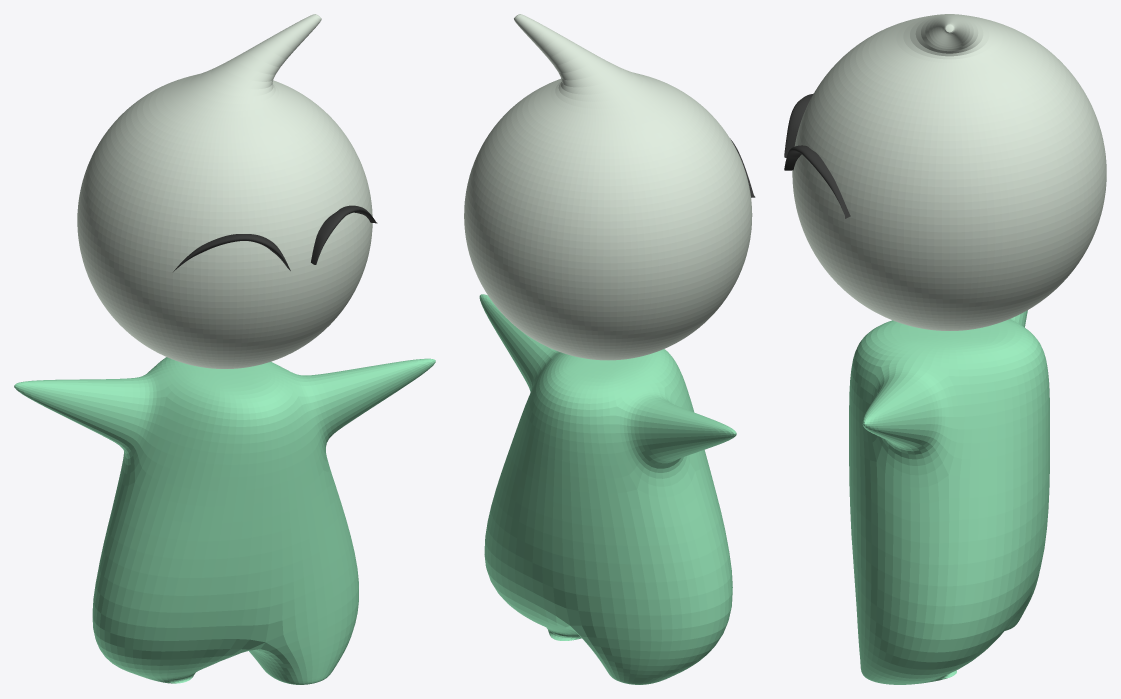
Rendered from SecondTest.fbx.
The picture shows the model from 3 angles, left to right: view 1: azimuth 30°, elevation 25°; view 2: azimuth 150°, elevation 25°; view 3: azimuth 270°, elevation 25°; orthographic projection. The views are drawn at different scales.
Visible parts, largest first — view 1: Cylinder, Sphere, Plane; view 2: Sphere, Cylinder; view 3: Sphere, Cylinder, Plane.
Part boxes in pixels (bbox=[...]): Cylinder: bbox=[14, 357, 435, 684]; Sphere: bbox=[77, 14, 372, 368]; Plane: bbox=[173, 205, 377, 271]; Sphere: bbox=[464, 14, 752, 360]; Cylinder: bbox=[479, 294, 736, 684]; Sphere: bbox=[792, 14, 1106, 330]; Cylinder: bbox=[849, 310, 1049, 684]; Plane: bbox=[784, 93, 850, 218].
Size of the model in its own units: 377 by 663 by 290.
